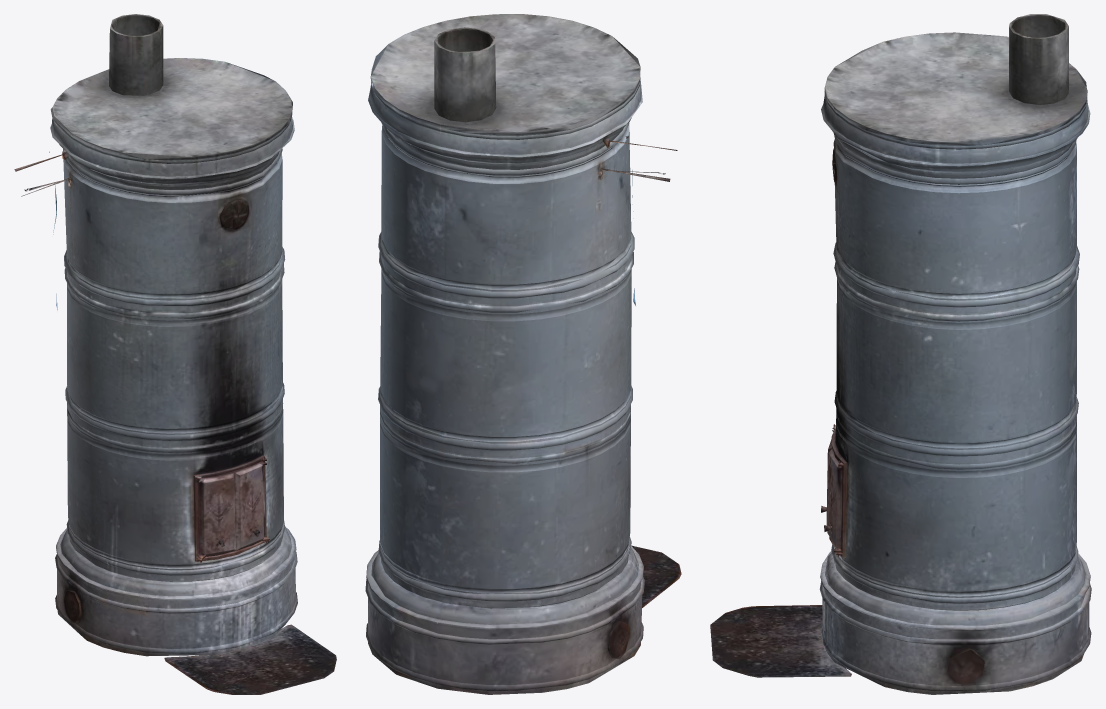
The model's file is stove.glb.
3 renders of one model, left to right at view 1: azimuth 30°, elevation 25°; view 2: azimuth 150°, elevation 25°; view 3: azimuth 270°, elevation 25°, orthographic. The views are drawn at different scales.
Visible parts, largest first — view 1: scandinavian_masonry_heater; view 2: scandinavian_masonry_heater; view 3: scandinavian_masonry_heater.
Boxes of the visible parts, left/top/right/bottom form: scandinavian_masonry_heater: left=14, top=14, right=336, bottom=694; scandinavian_masonry_heater: left=365, top=14, right=681, bottom=694; scandinavian_masonry_heater: left=710, top=14, right=1091, bottom=694.
Bounding box in the file's own units: 1.17 × 2.36 × 1.33.
Materials: 1 (1 with a texture image).
